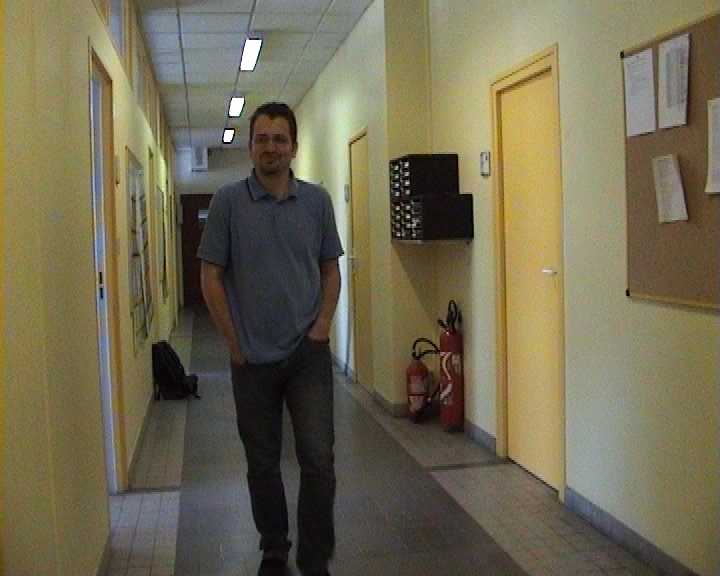leave bag unattended: (137, 335, 230, 437)
